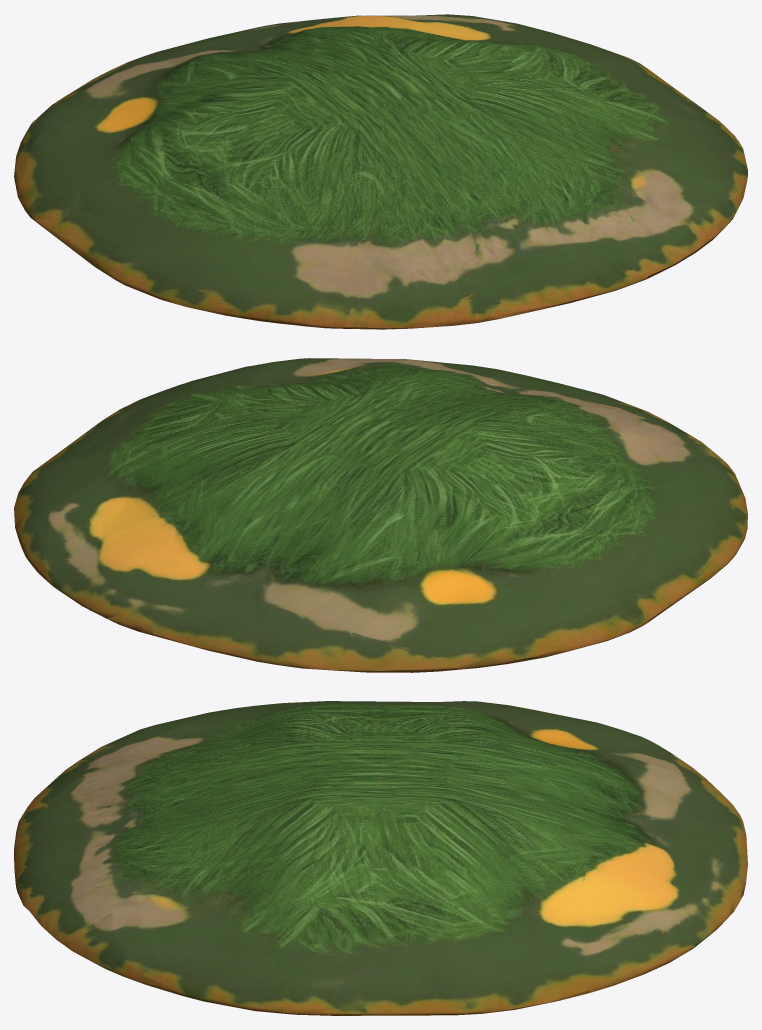
Rendered from Hill.glb.
3 renders of one model, top to bottom at view 1: azimuth 30°, elevation 25°; view 2: azimuth 150°, elevation 25°; view 3: azimuth 270°, elevation 25°, orthographic. The views are drawn at different scales.
Bounding box in the file's own units: 8 × 1.2 × 8.
1 material, 1 textured.
